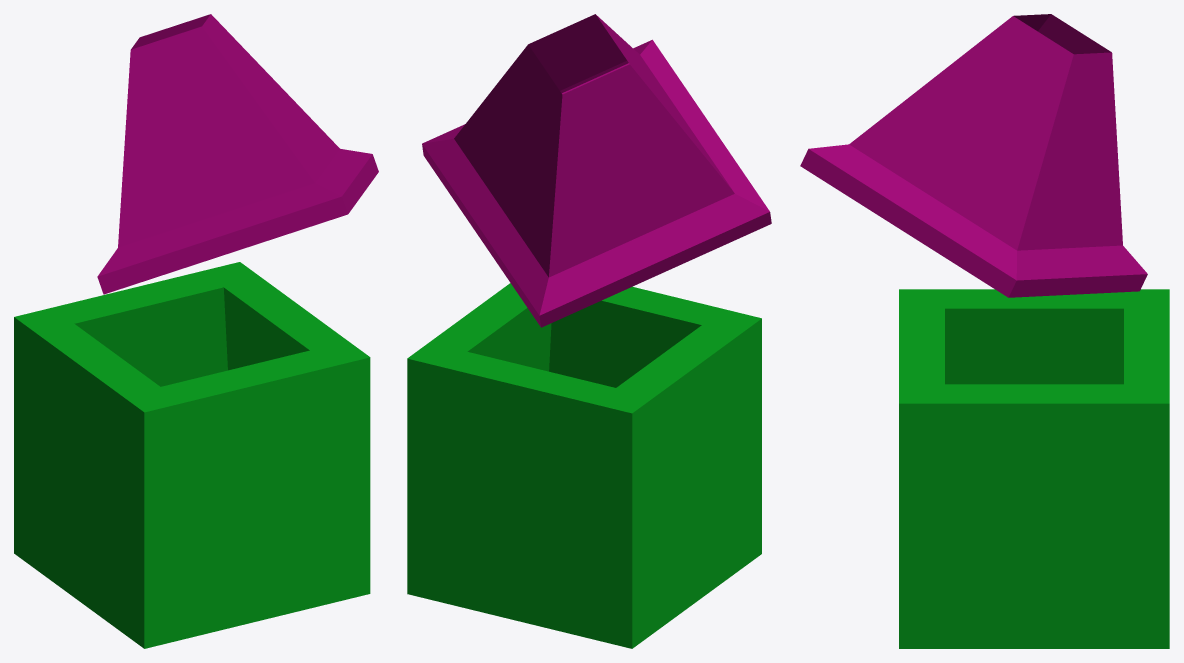
File: AnimatedBox_000087.obj
The picture shows the model from 3 angles, left to right: view 1: azimuth 30°, elevation 25°; view 2: azimuth 150°, elevation 25°; view 3: azimuth 270°, elevation 25°; orthographic projection. The views are drawn at different scales.
Parts seen in each view (by area): view 1: Cube, Cube.001; view 2: Cube, Cube.001; view 3: Cube, Cube.001.
Boxes of the visible parts, x1,y1,x2,y2 form: Cube: (14, 262, 370, 648); Cube.001: (97, 14, 378, 294); Cube: (407, 283, 761, 648); Cube.001: (422, 14, 771, 327); Cube: (899, 289, 1169, 648); Cube.001: (800, 14, 1147, 297).
Bounding box in the file's own units: 2.79 × 4.69 × 2.73.
